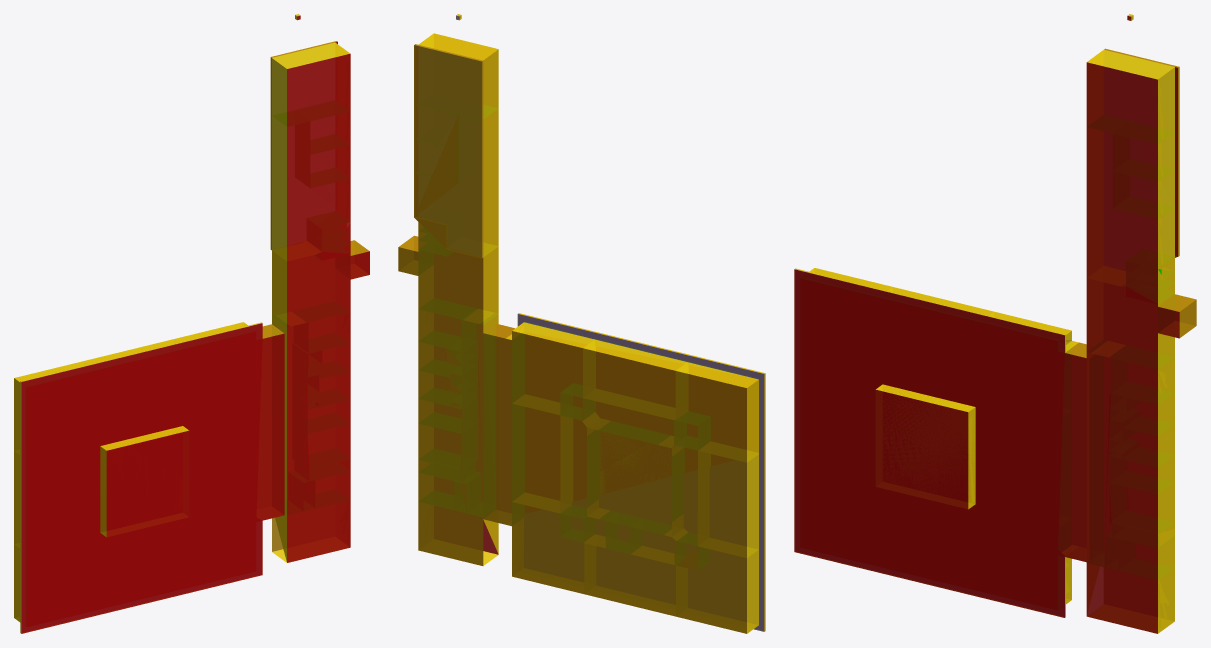
File: hello-world-2021-01-26.gltf
3 renders of one model, left to right at view 1: azimuth 30°, elevation 25°; view 2: azimuth 150°, elevation 25°; view 3: azimuth 330°, elevation 25°, orthographic. The views are drawn at different scales.
Size of the model in its own units: 47.11 by 70.29 by 4.8.
